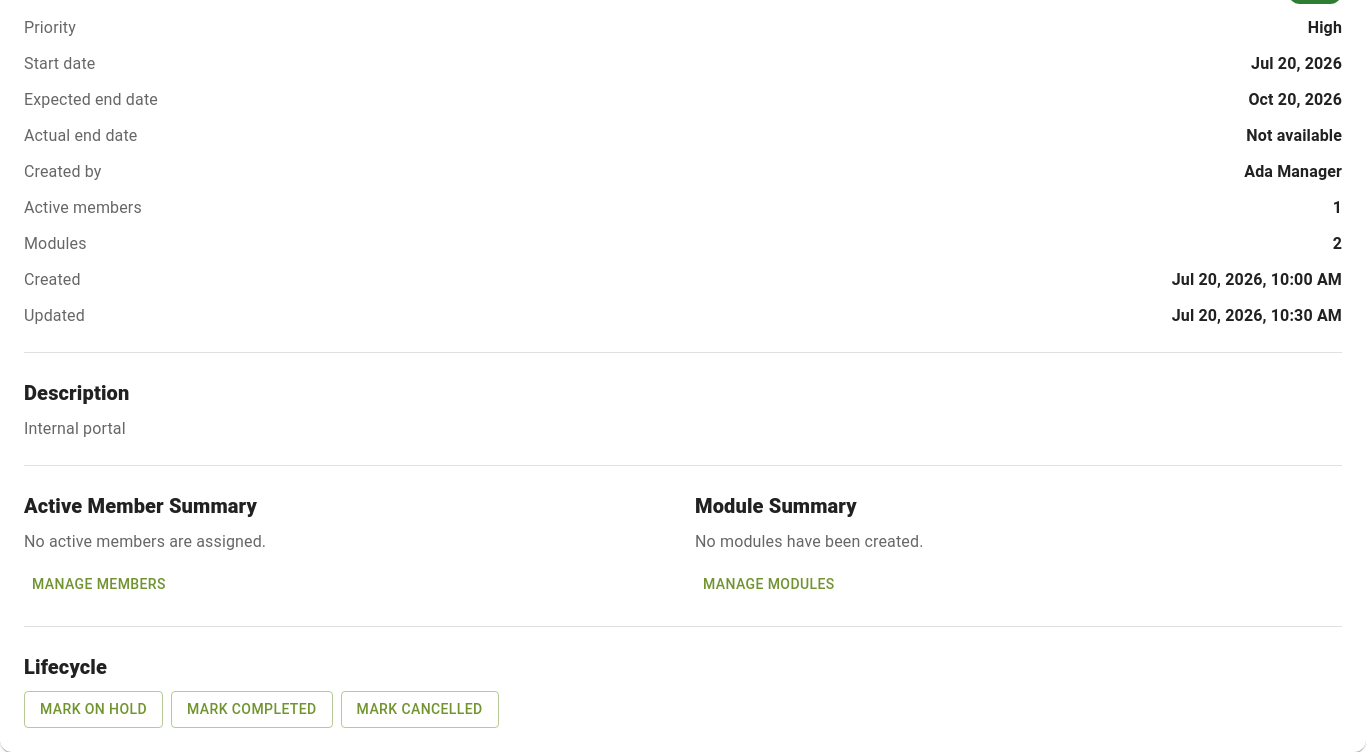
it: Project pages › loads project detail from the API and preserves lifecycle conflicts
(page scrolled)
Expected: the button "Mark On Hold" is shown, [24,691,163,728]
Expected: the button "mark planned" is not shown
Click the button "Mark Completed".
click(252, 710)  # box [171,691,333,728]
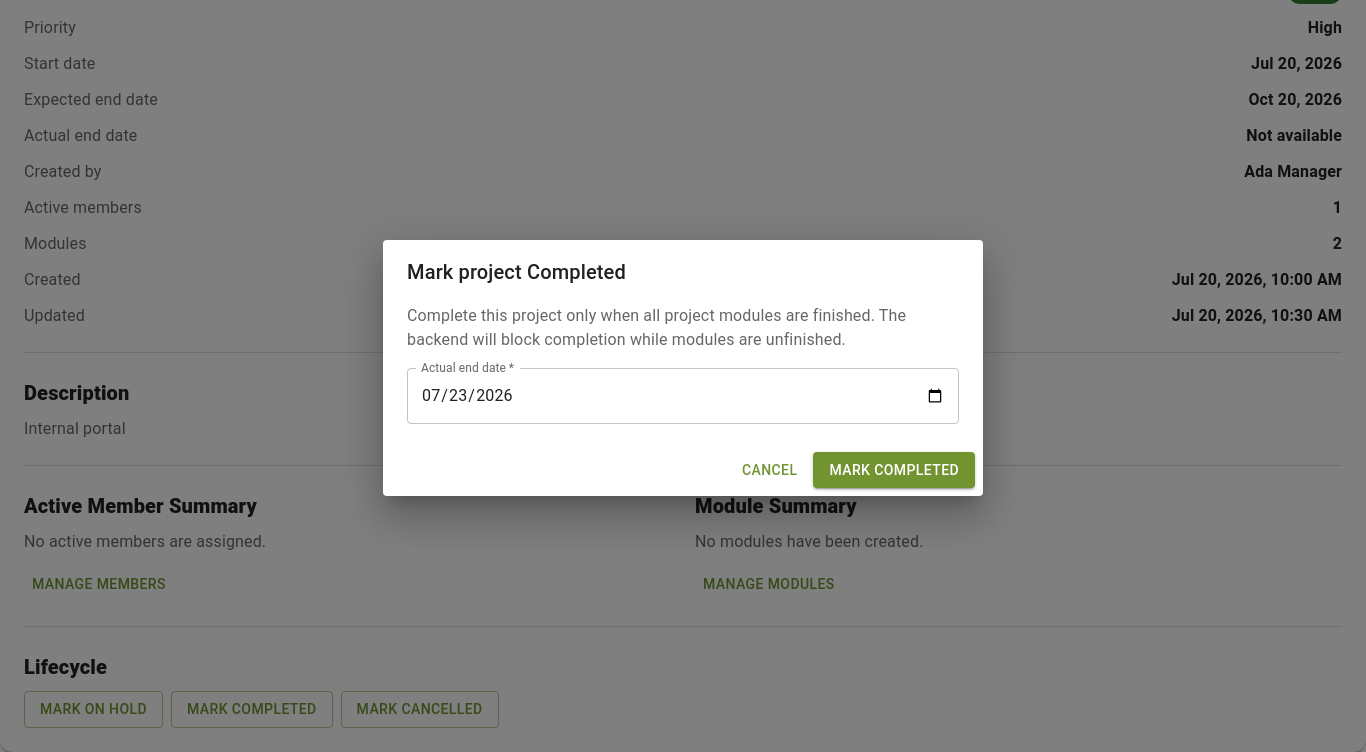
Expected: the text "all project modules are finished" is shown, [407,306,906,349]
Click the button "Mark Completed".
click(894, 470)  # box [813,452,975,488]
(page scrolled)
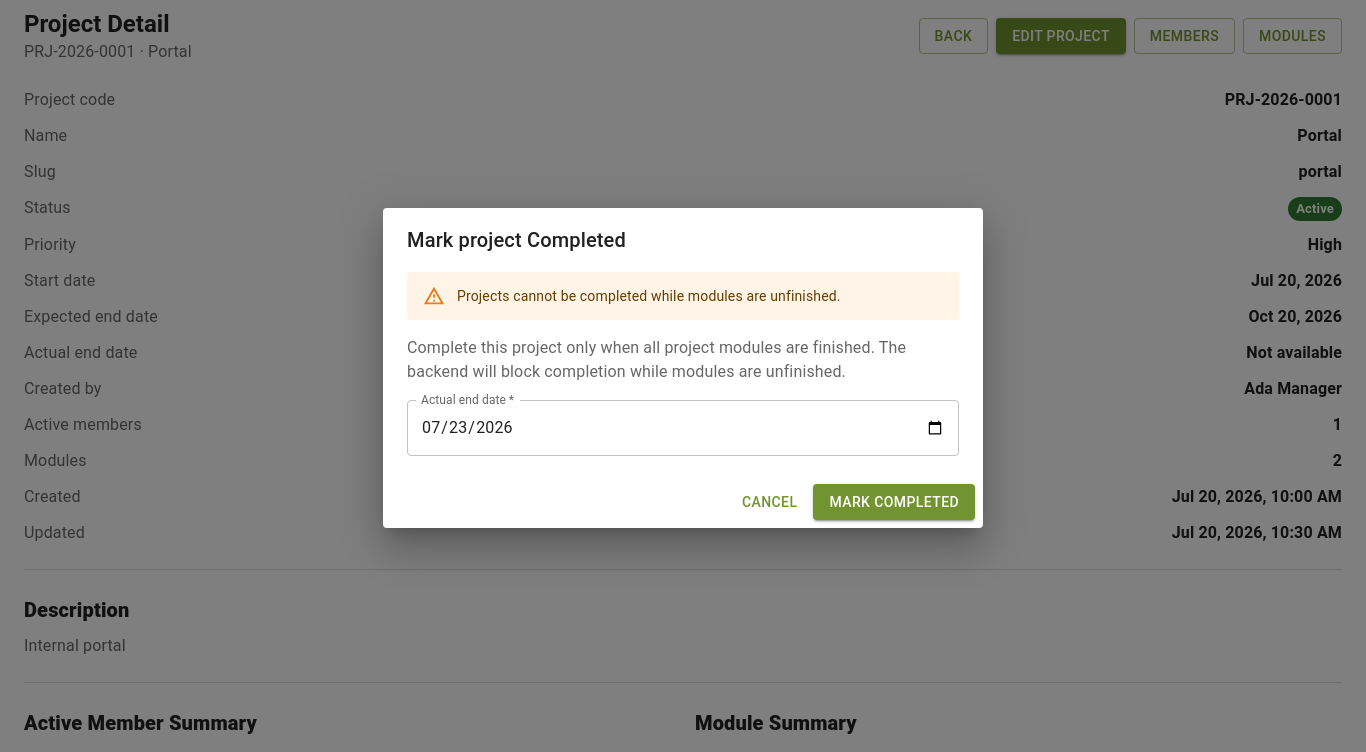
Expected: the text "Active" is shown, [1296,201,1334,216]
Expected: the text "Projects cannot be completed while modules are unfinished." is shown, [457,288,841,304]
